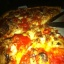pizza: (1, 2, 62, 64)
